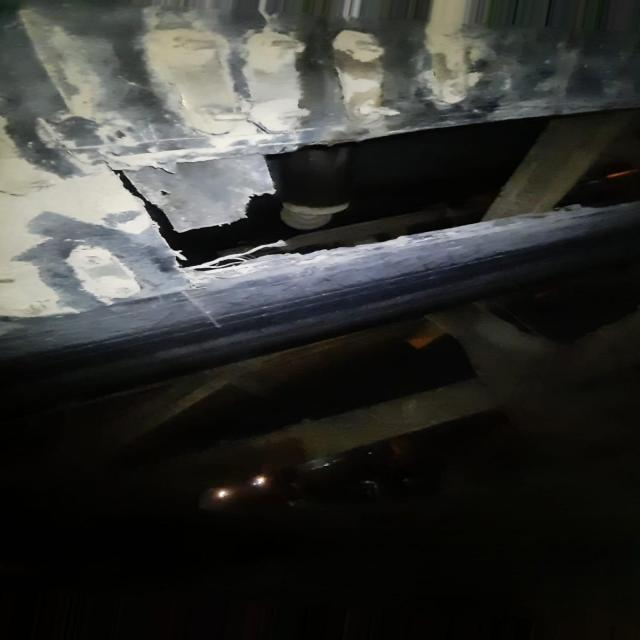Hole: (116, 106, 640, 274)
